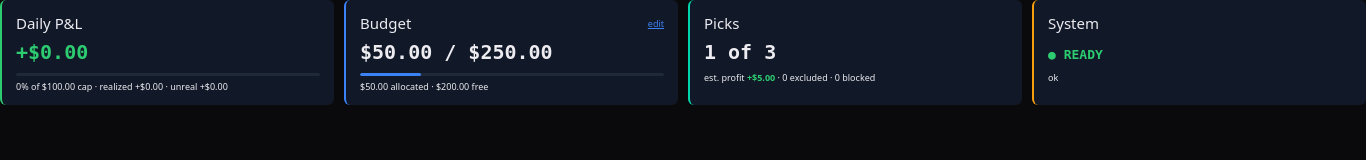
Test case: KpiTileStrip budget input › is controlled and seeds from server budget on edit entry
Click the button "edit". click: [656, 23]
box: [648,16,664,30]
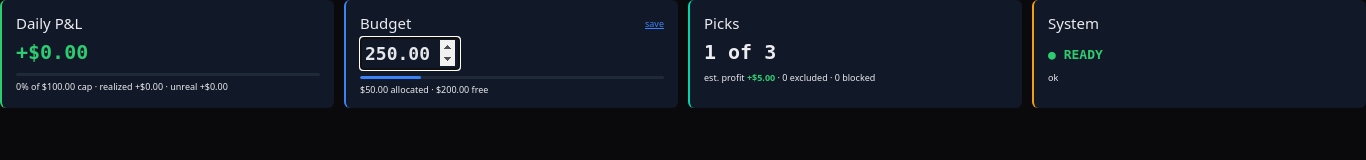
Expected: the number field holds "250.00", [360,36,460,70]
